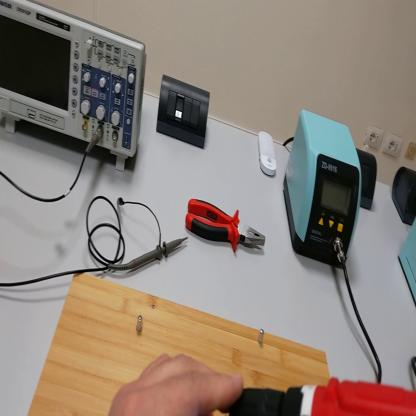electric screwdriver: (229, 379, 416, 415)
hand: (109, 349, 245, 416)
oscilloscope: (2, 4, 150, 172)
oscilloscope probe tip: (106, 237, 190, 273)
pliers: (186, 196, 267, 260)
socket: (395, 161, 416, 227), (358, 151, 379, 212)
welder base: (399, 207, 416, 308)
welder station: (284, 100, 363, 271)
working area: (25, 271, 330, 414)
